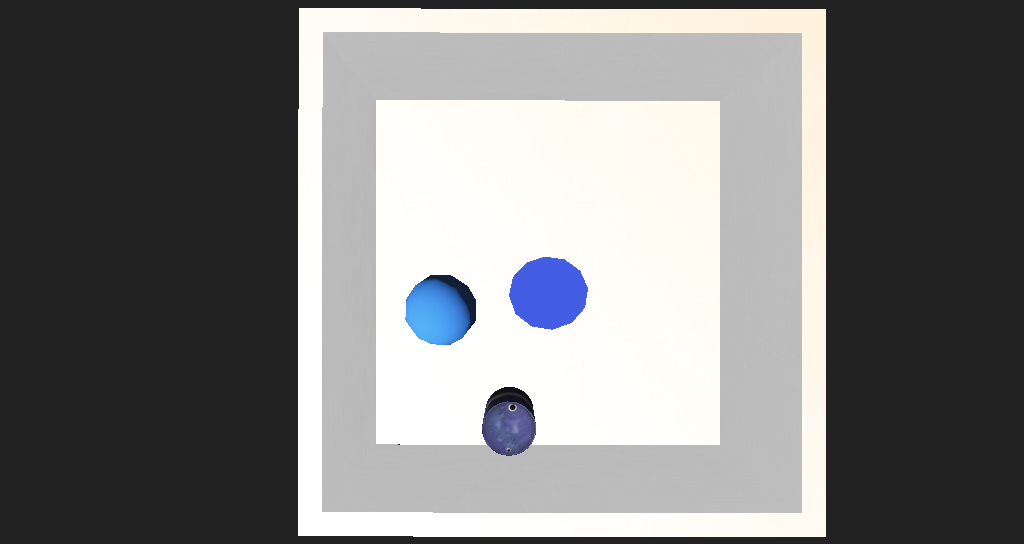cone: (448, 341, 495, 384)
cylinder: (461, 253, 549, 329)
sphere: (377, 267, 445, 315)
